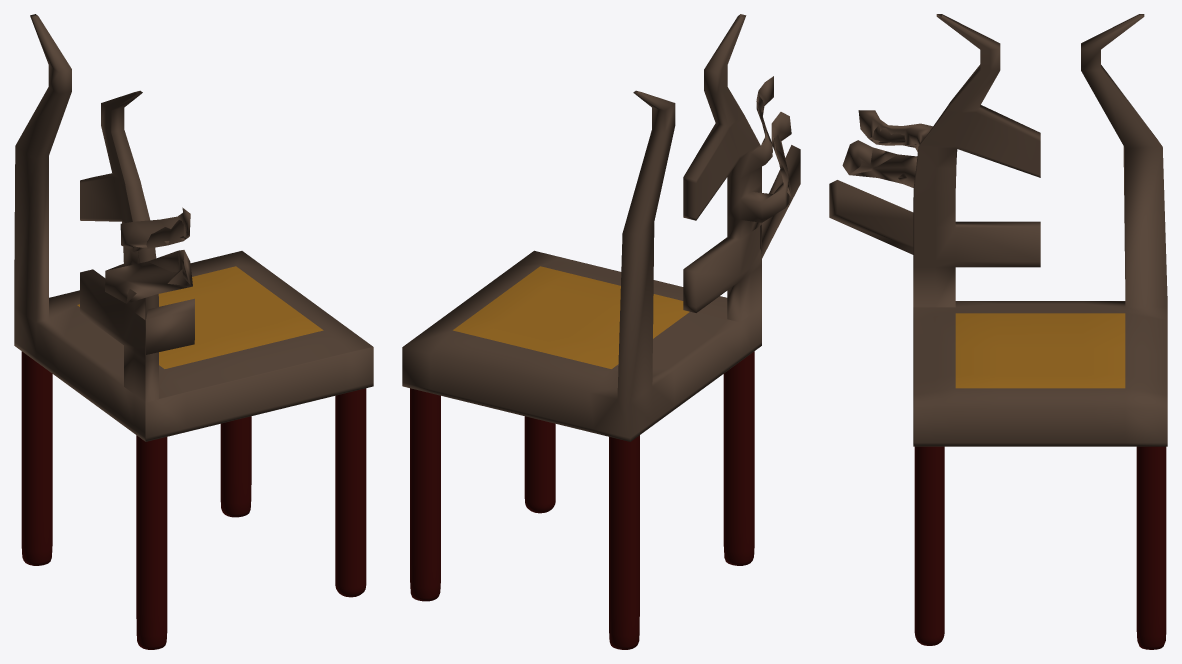
The model's file is SILLA,glb.glb.
3 renders of one model, left to right at view 1: azimuth 30°, elevation 25°; view 2: azimuth 150°, elevation 25°; view 3: azimuth 270°, elevation 25°, orthographic. The views are drawn at different scales.
Parts seen in each view (by area): view 1: Cube.002; view 2: Cube.002; view 3: Cube.002.
Boxes of the visible parts, <box> form: Cube.002: <box>14,14,373,649</box>; Cube.002: <box>402,14,800,649</box>; Cube.002: <box>829,14,1167,649</box>.
Bounding box in the file's own units: 2.28 × 4.62 × 2.66.
